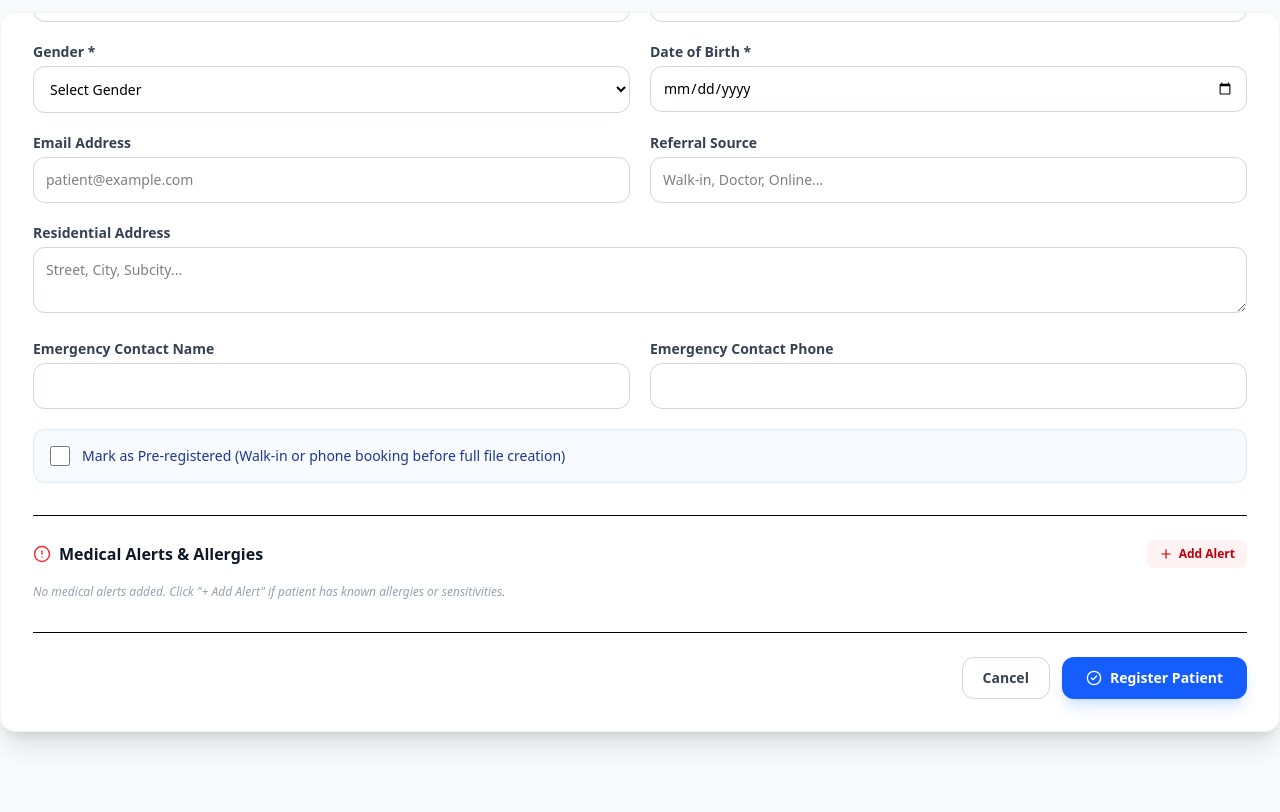
it: PatientRegistrationForm (FR-PAT-001 / TR-PAT-002) › shows validation errors when submitted empty and does not call the service
(page scrolled)
Click the button "Register Patient" at (1154, 678), box [1062,657,1247,699]
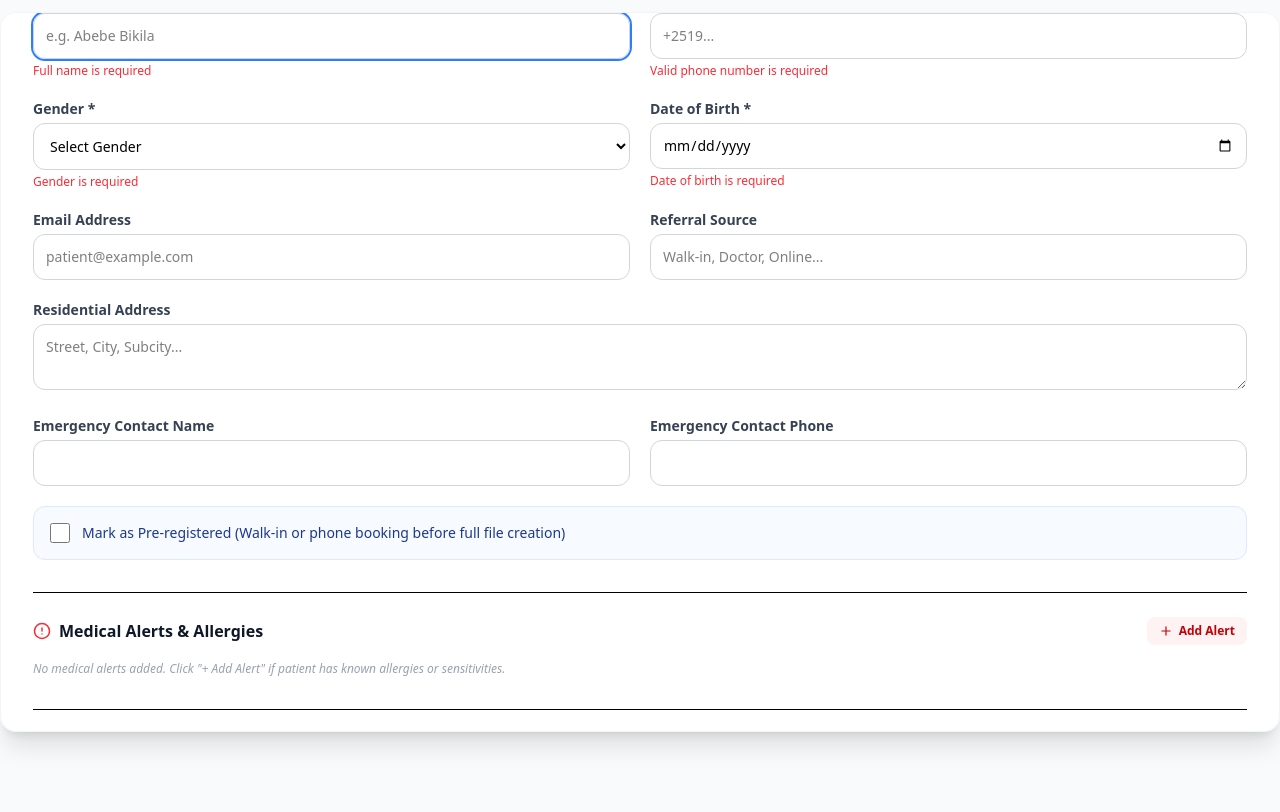
expect the text "Full name is required" is shown: met, box [33,62,151,79]
expect the text "Valid phone number is required" is shown: met, box [650,62,828,79]
expect the text "Gender is required" is shown: met, box [33,173,138,190]
